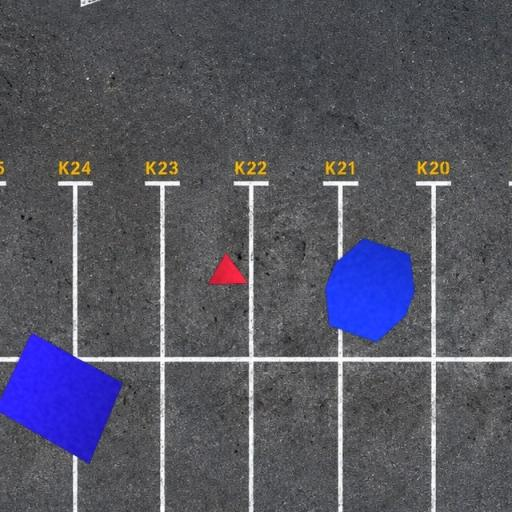BLUE_SQUARE: (0, 333, 124, 465)
